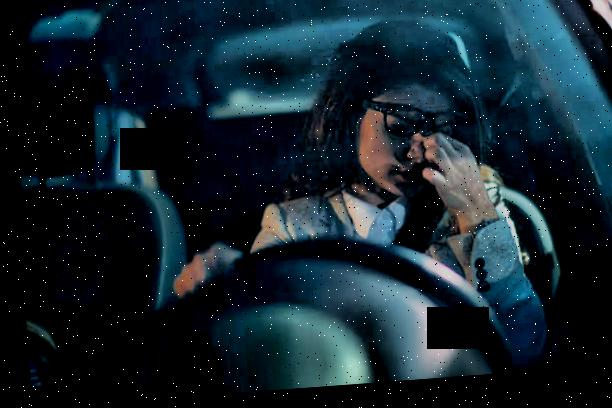seatbelt: (378, 79, 530, 254)
